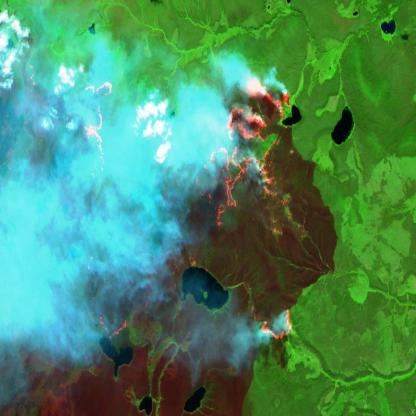fire: (79, 64, 297, 345)
